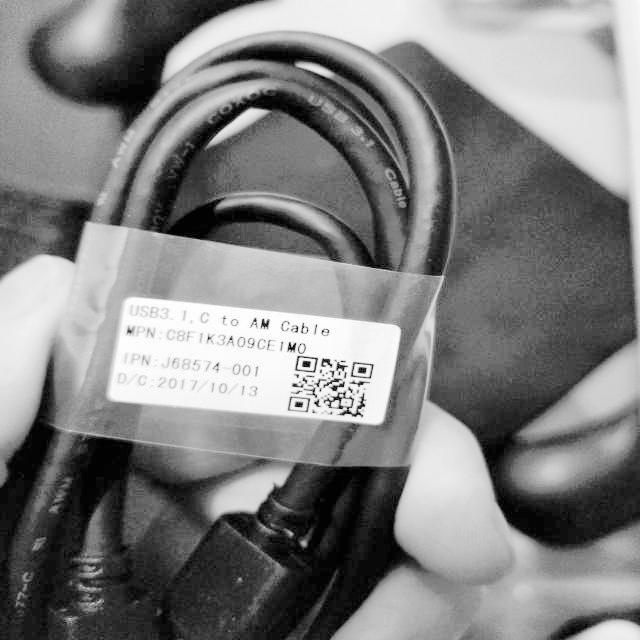qr_code: (280, 346, 384, 426)
